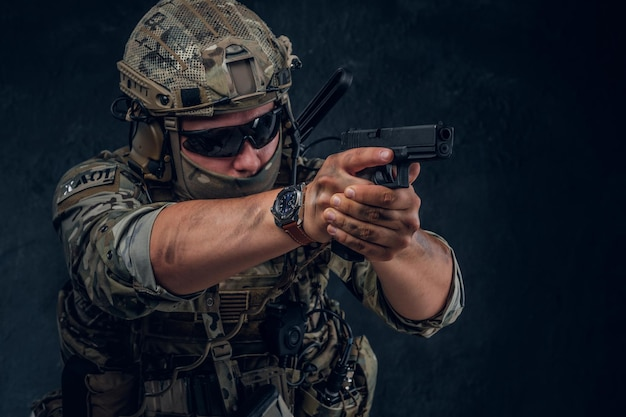gun: (340, 121, 456, 192)
